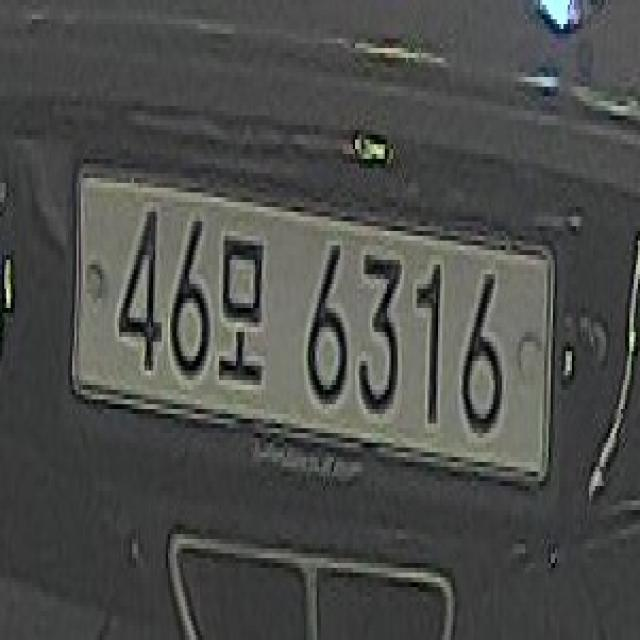1: (411, 254, 449, 452)
3: (354, 242, 406, 431)
4: (115, 201, 167, 397)
6: (460, 250, 510, 460), (296, 235, 351, 424), (170, 204, 216, 396)
license_plate: (63, 139, 567, 522)
mo: (219, 214, 270, 402)
